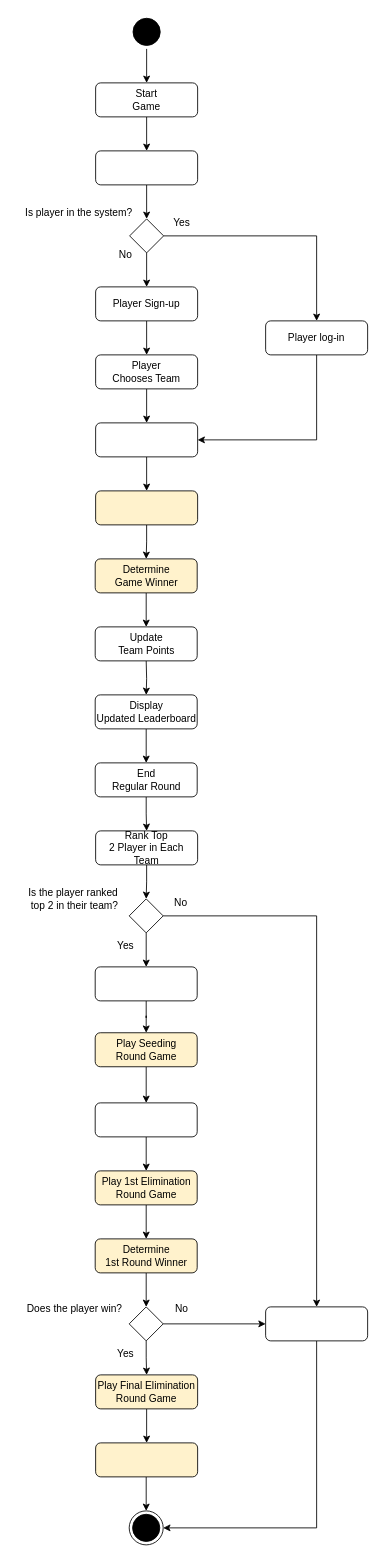
Some shapes in this 383 by 1560 pixel diagram are drawn without their labels. Here are the shapes that lost their labels. From the top down, the centre of each, then its label:
At point 146,167: "Display Leaderboard".
At point 146,439: "Display Instrcutions".
At point 146,507: "Play Regular Round Game".
At point 145,983: "Start Elimination Match".
At point 145,1119: "Rank and Match 2 Player".
At point 316,1323: "Eliminated".
At point 146,1459: "Determine Tournament Winner".
